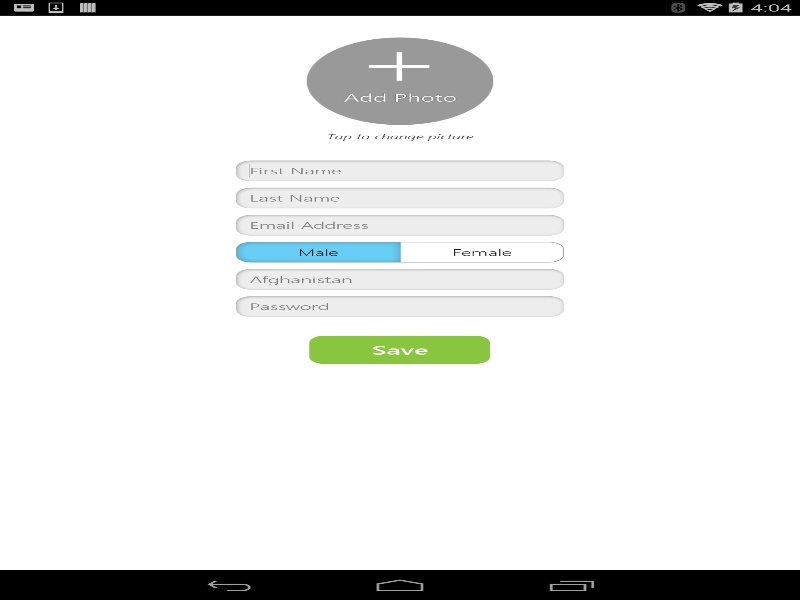Input: (236, 160, 564, 181), (236, 187, 564, 208), (236, 214, 564, 235), (236, 295, 564, 316)
